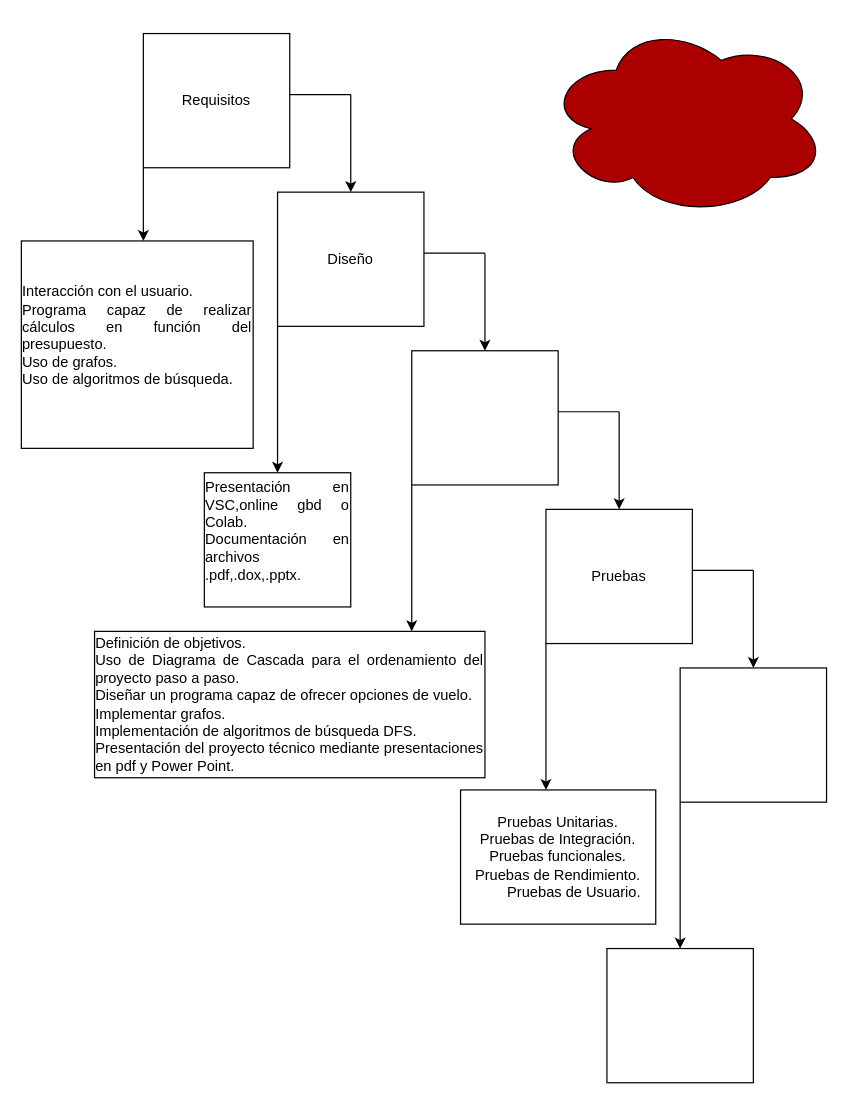
Image size: 848x1104. Some labels were removed from this diagram. The shapes that lost their labels are listed below. From the top down, each one's centre as x and y in pixels, then its label:
At pixel 686 118: "Diagrama de Cascada".
At pixel 484 417: "Desarrollo".
At pixel 753 734: "Cronograma".
